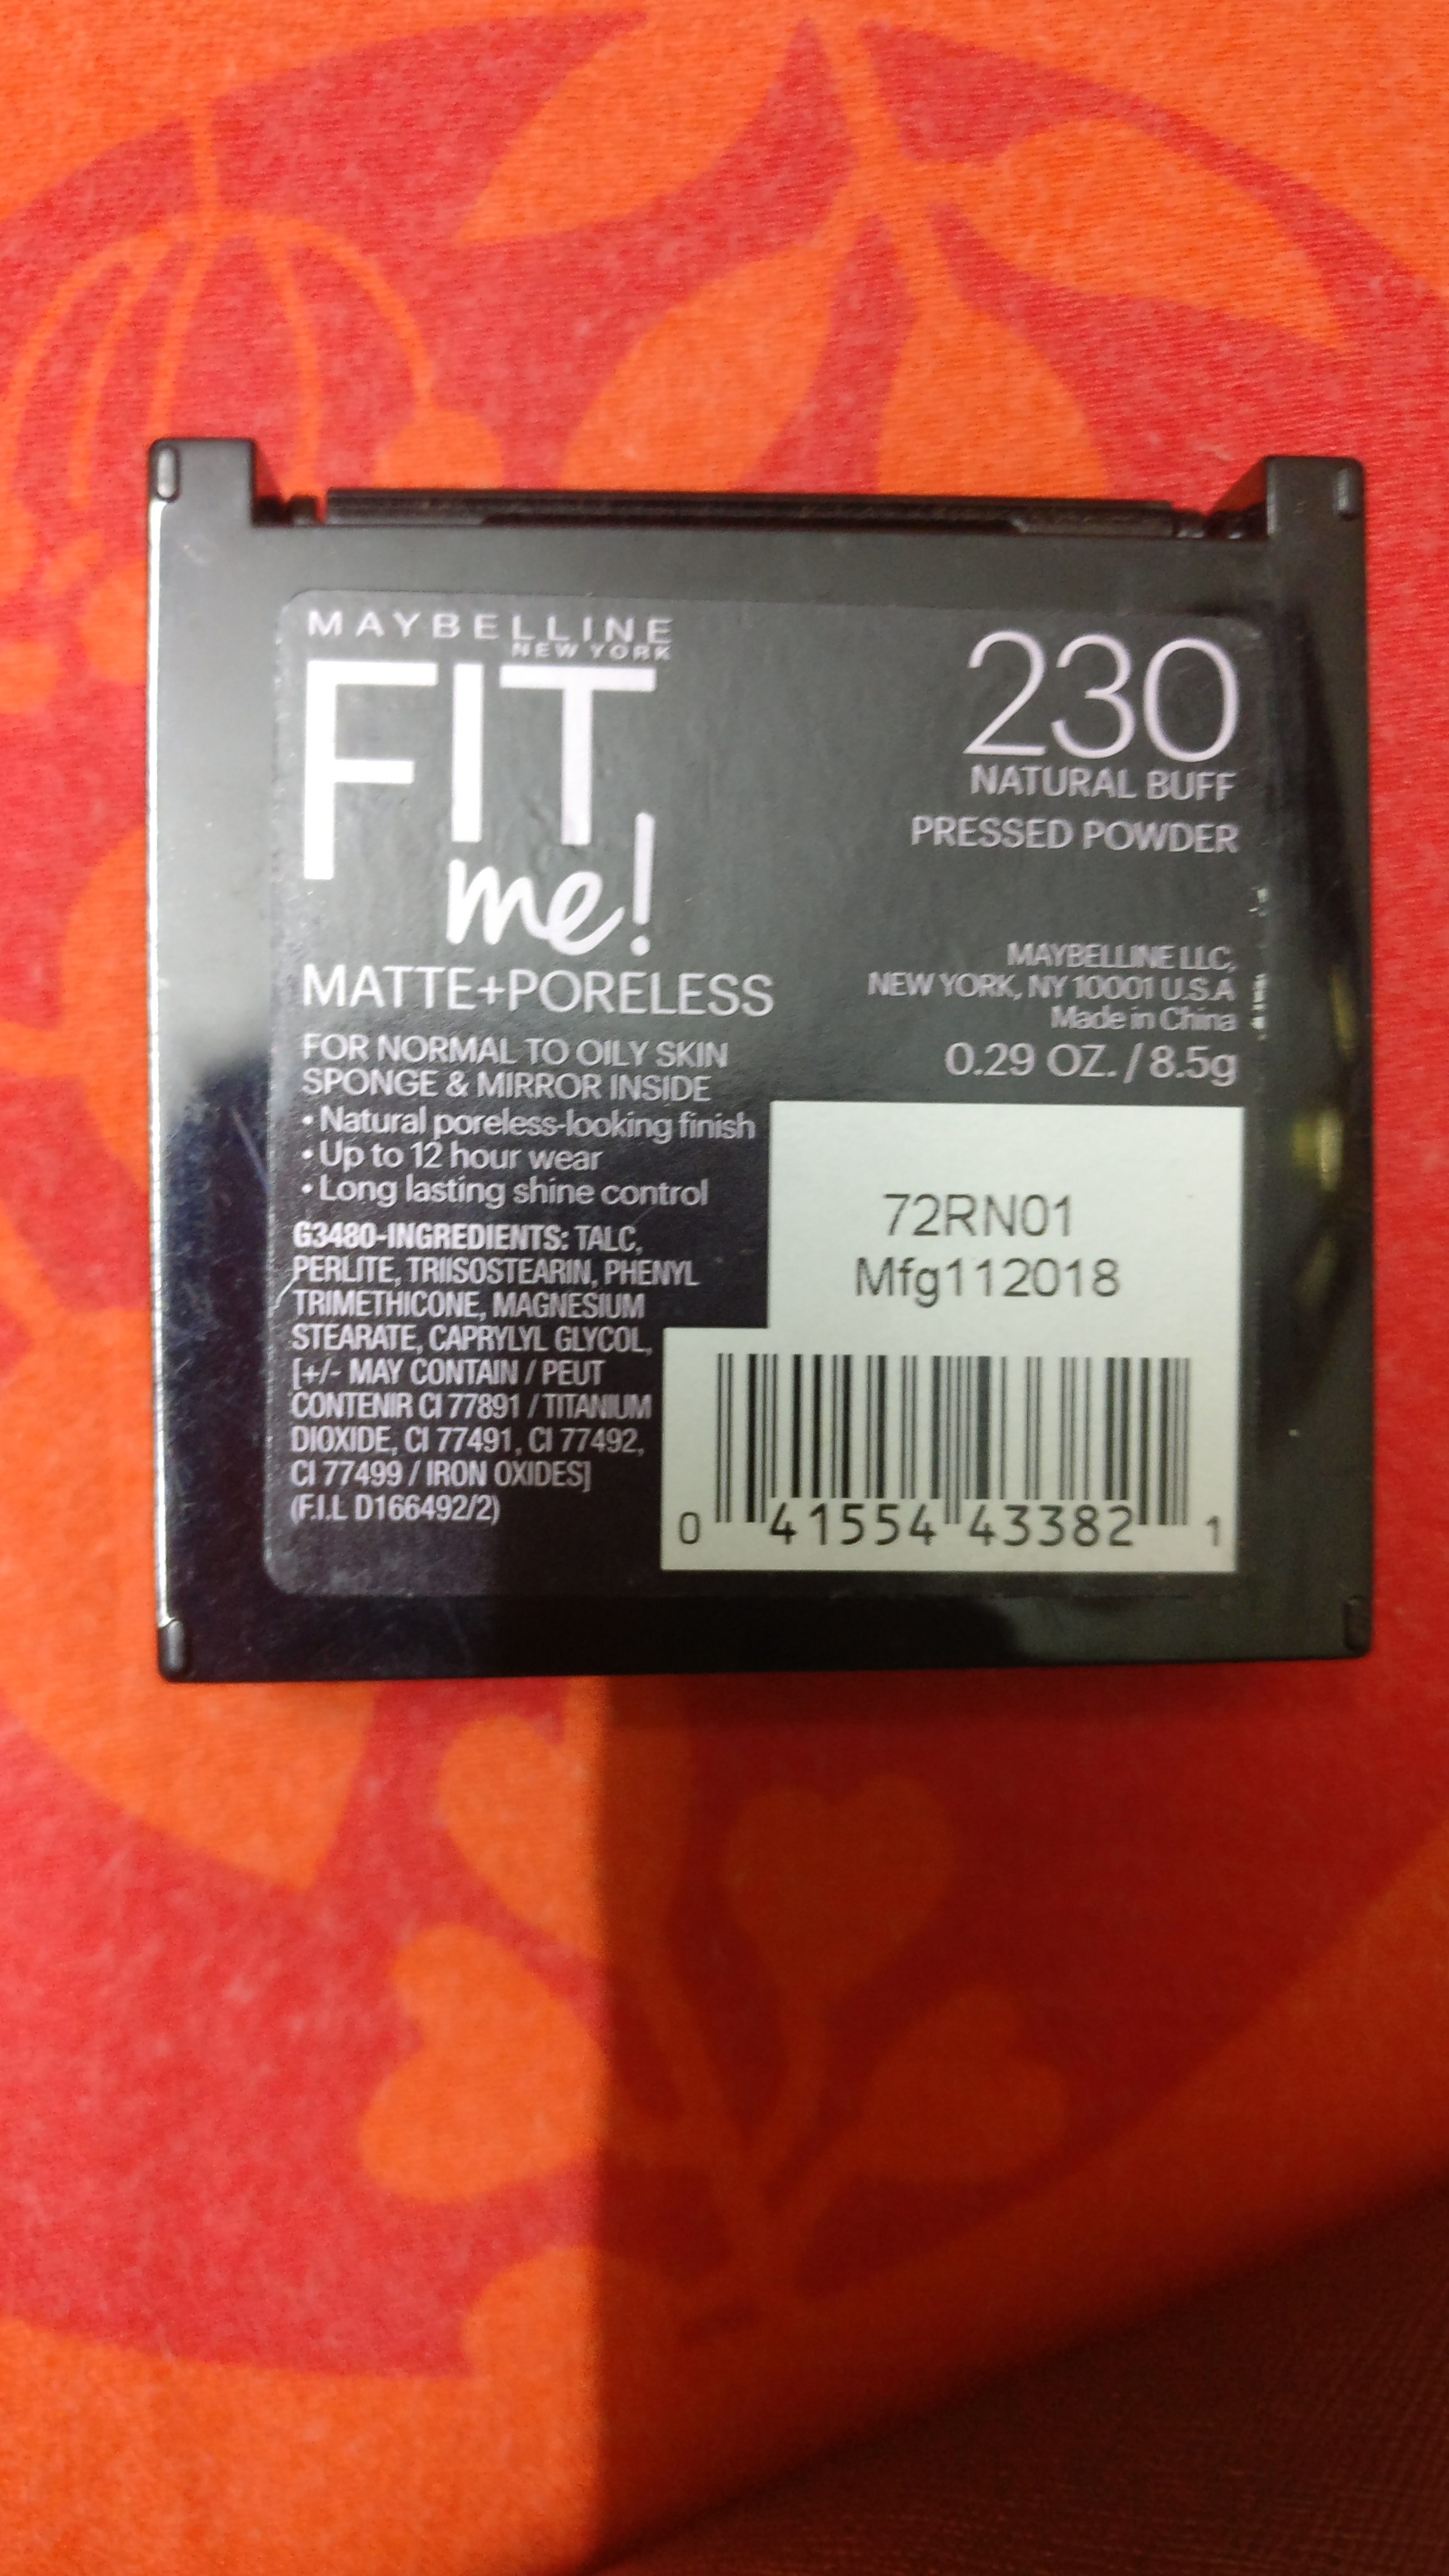barcode: (692, 1316, 1200, 1560)
